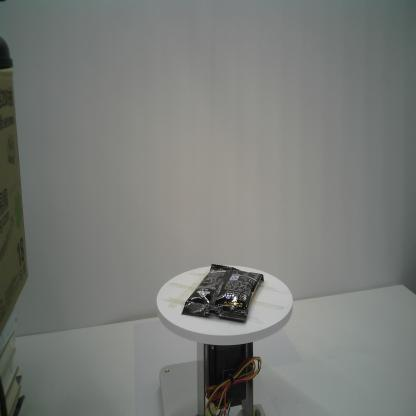Instant Drink: (181, 263, 264, 324)
